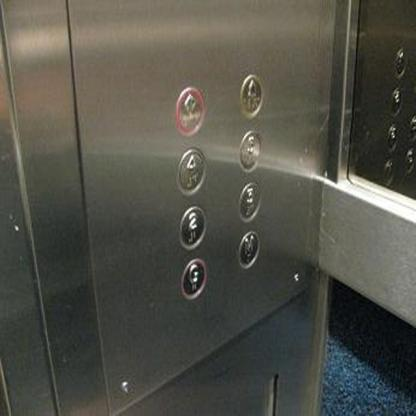2: (178, 202, 206, 249)
3: (238, 179, 260, 220)
4: (176, 143, 206, 194)
5: (238, 127, 261, 171)
G: (179, 255, 207, 299)
M: (238, 227, 259, 268)
alarm: (238, 72, 264, 119)
blur: (388, 86, 402, 116), (393, 48, 406, 77), (382, 160, 395, 186), (386, 123, 398, 151)
open: (175, 83, 204, 137)
